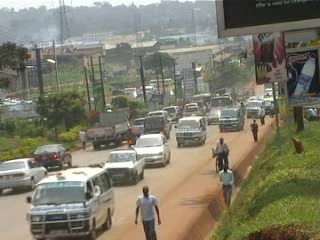Car: (0, 154, 50, 195), (128, 129, 173, 168), (30, 141, 75, 170), (129, 114, 151, 134), (203, 107, 225, 125)
Motorcycle: (236, 98, 249, 115)
